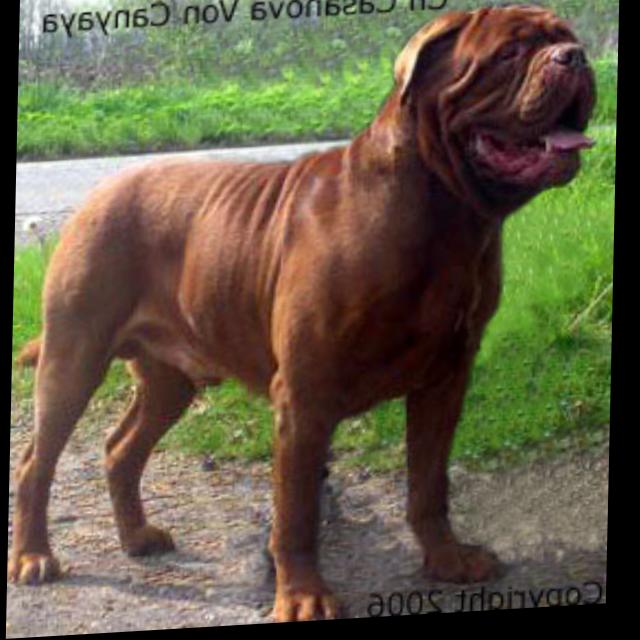dogue_de_bordeaux: (9, 3, 603, 640)
